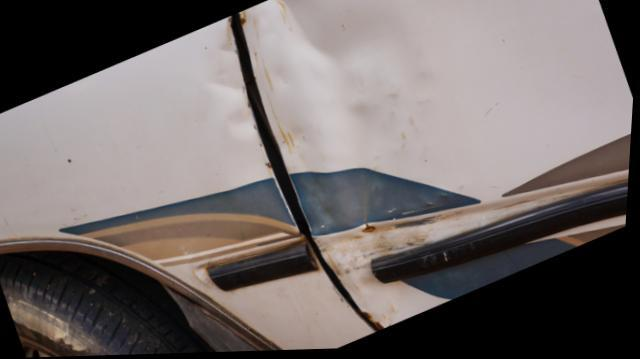dent: (248, 0, 457, 298), (209, 31, 264, 157)
